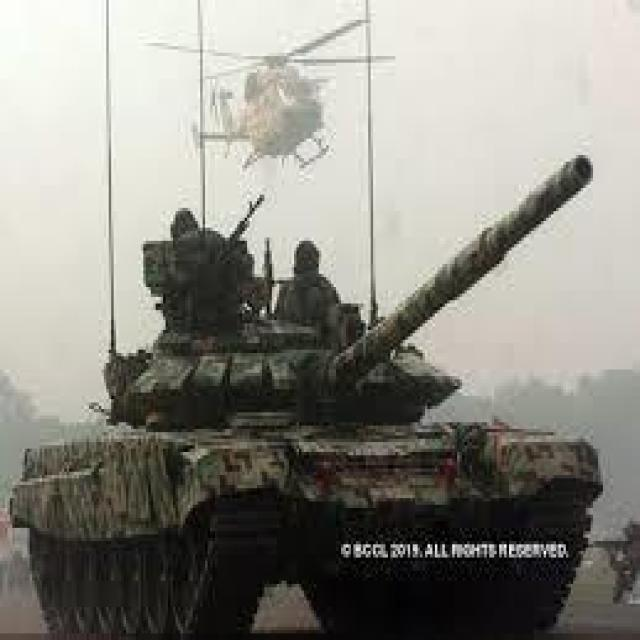Tanks: (28, 164, 568, 628)
